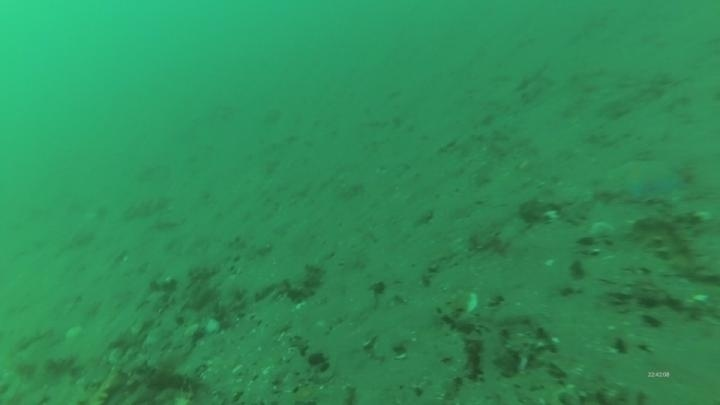holothurian: (629, 211, 702, 279), (121, 192, 176, 222)
starfish: (600, 157, 688, 204)
